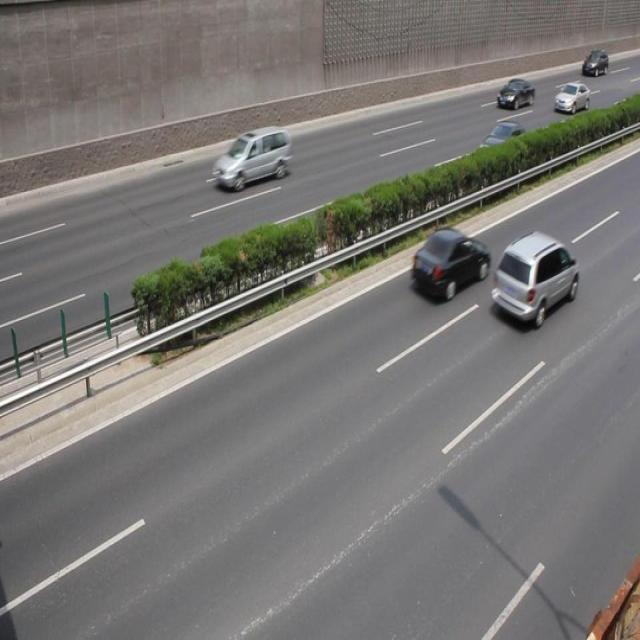car: (490, 230, 577, 328), (410, 228, 490, 302), (212, 128, 292, 192), (476, 119, 529, 167), (494, 76, 534, 110), (552, 82, 588, 115)
